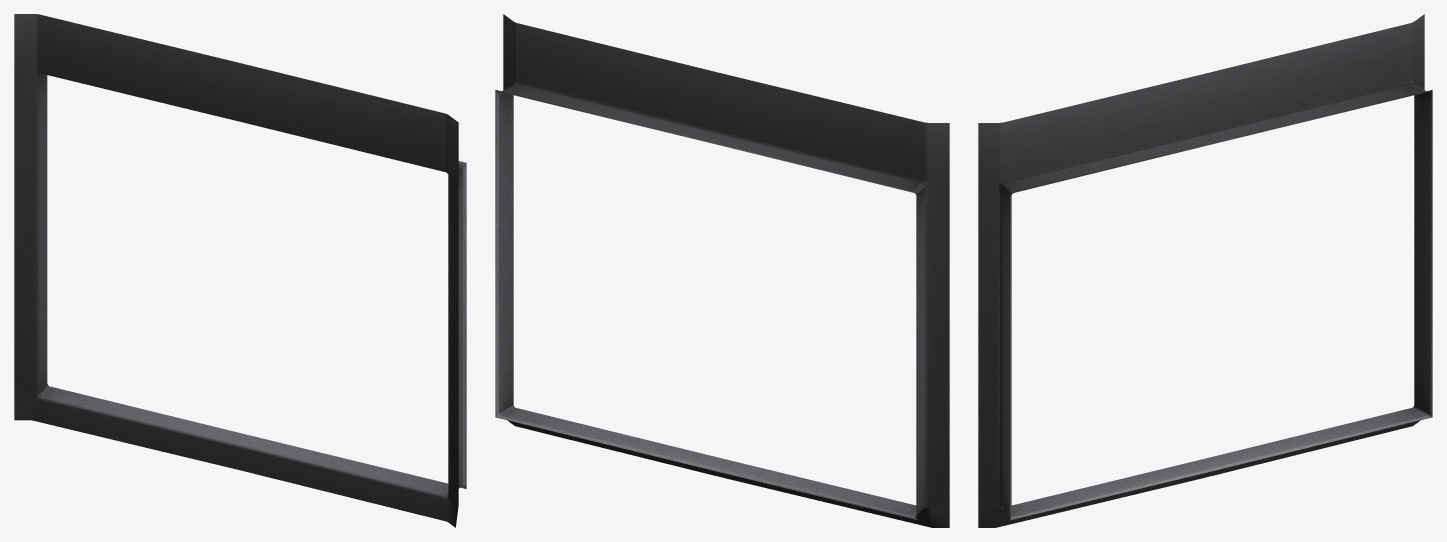
The model's file is wall02.FBX.
3 views of the same model, side by side, from view 1: azimuth 30°, elevation 25°; view 2: azimuth 210°, elevation 25°; view 3: azimuth 270°, elevation 25° (orthographic).
Visible parts, largest first — view 1: wall02; view 2: wall02; view 3: wall02.
Boxes of the visible parts, <box> form: wall02: <box>14,14,466,527</box>; wall02: <box>495,14,949,527</box>; wall02: <box>978,14,1432,527</box>.
Bounding box in the file's own units: 144 × 226 × 229.
Materials: 1 (1 with a texture image).
